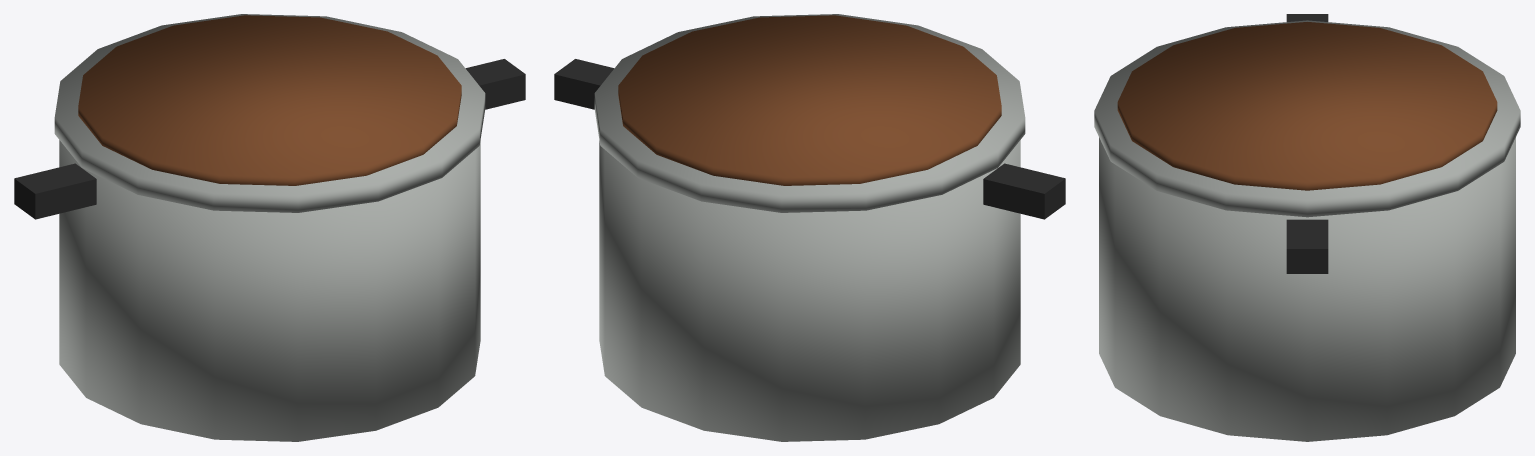
The model's file is pot_buckwheat.glb.
3 views of the same model, side by side, from view 1: azimuth 30°, elevation 25°; view 2: azimuth 150°, elevation 25°; view 3: azimuth 270°, elevation 25° (orthographic).
Visible parts, largest first — view 1: Item; view 2: Item; view 3: Item.
Part boxes in pixels (x1,y1,x2,y2): Item: (14,14,525,441); Item: (554,14,1065,441); Item: (1094,14,1520,441).
Bounding box in the file's own units: 0.24 × 0.12 × 0.184.
